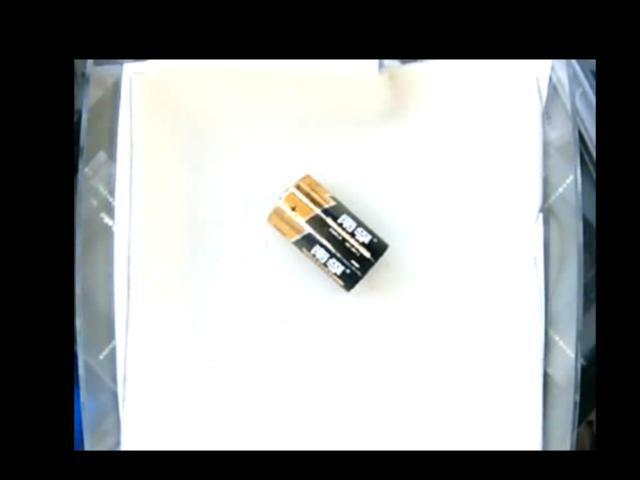Battery: (269, 174, 384, 292)
